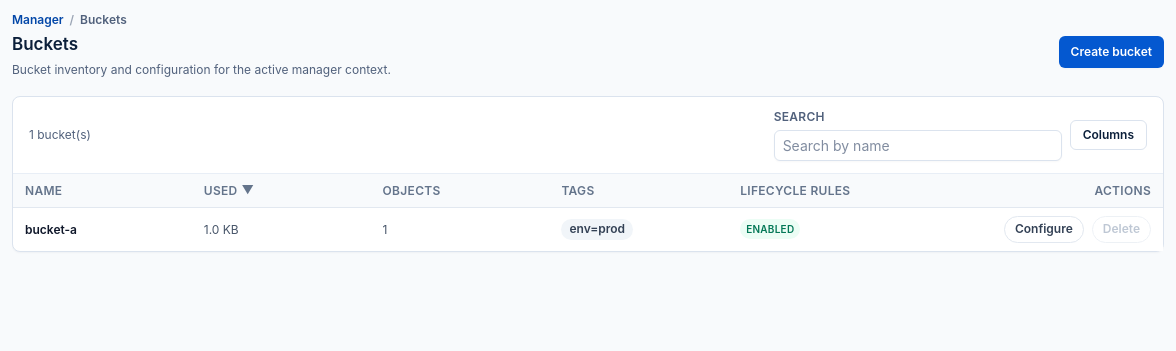
Test: manager shell pages › loads manager bucket feature summaries only when a feature chip is focused
expect the text "bucket-a" is shown: met, box [25,222,77,236]
Focus the button with aria-label "Lifecycle rules details": x=770, y=229 [740,219,800,239]
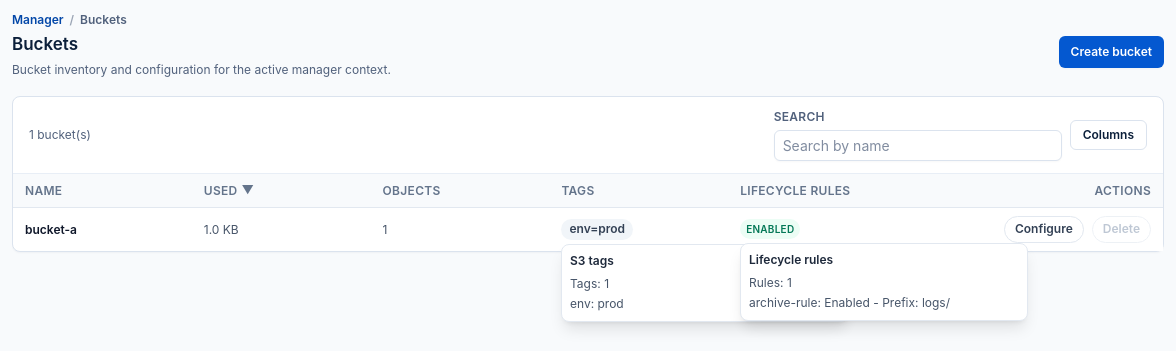
expect the text "archive-rule: Enabled - Prefix: logs/" is shown: met, box [749,295,950,310]
